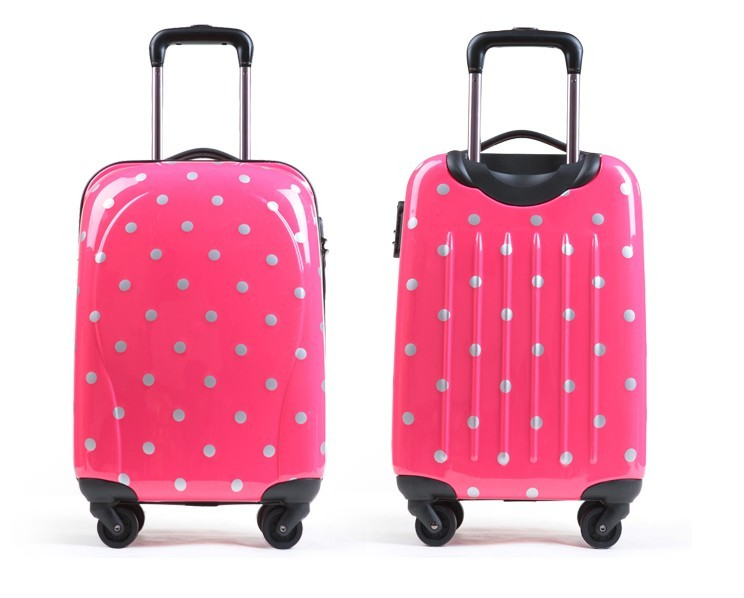suitcase: (73, 23, 327, 550), (393, 22, 647, 549)
